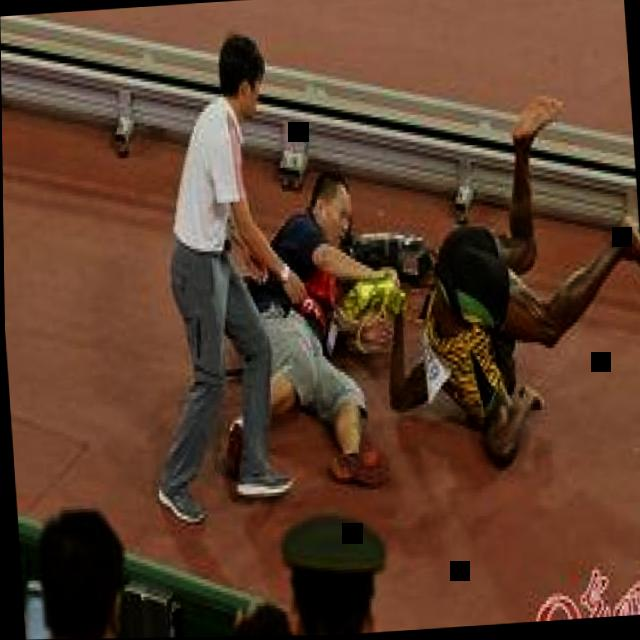Fall-Detected: (386, 68, 640, 424)
